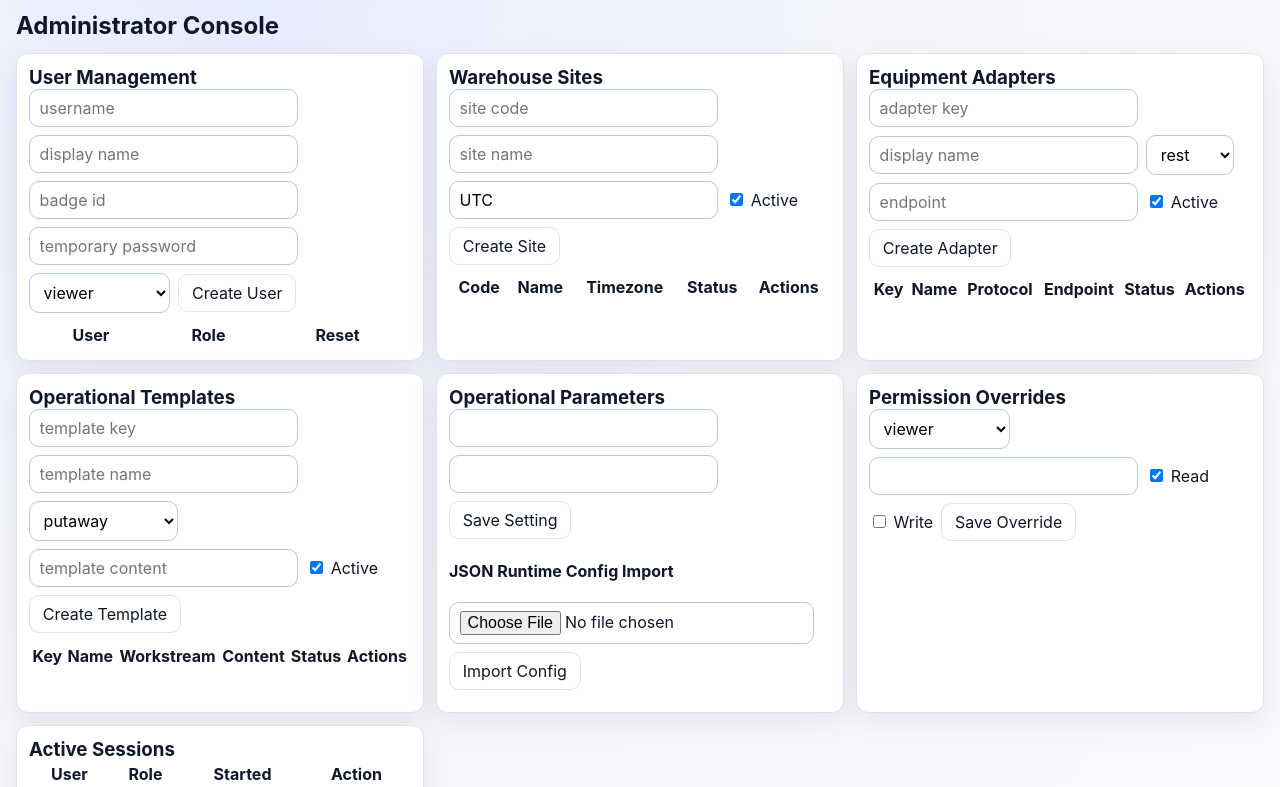
Test: AdminConsole › Save Operational Template persists template and renders it in the template list
Check: the heading "Operational Templates" is shown, box [29,386,235,409]
Type "tpl-putaway-default" into the field with placeholder "template key" at x=164, y=428, box [29,409,298,447]
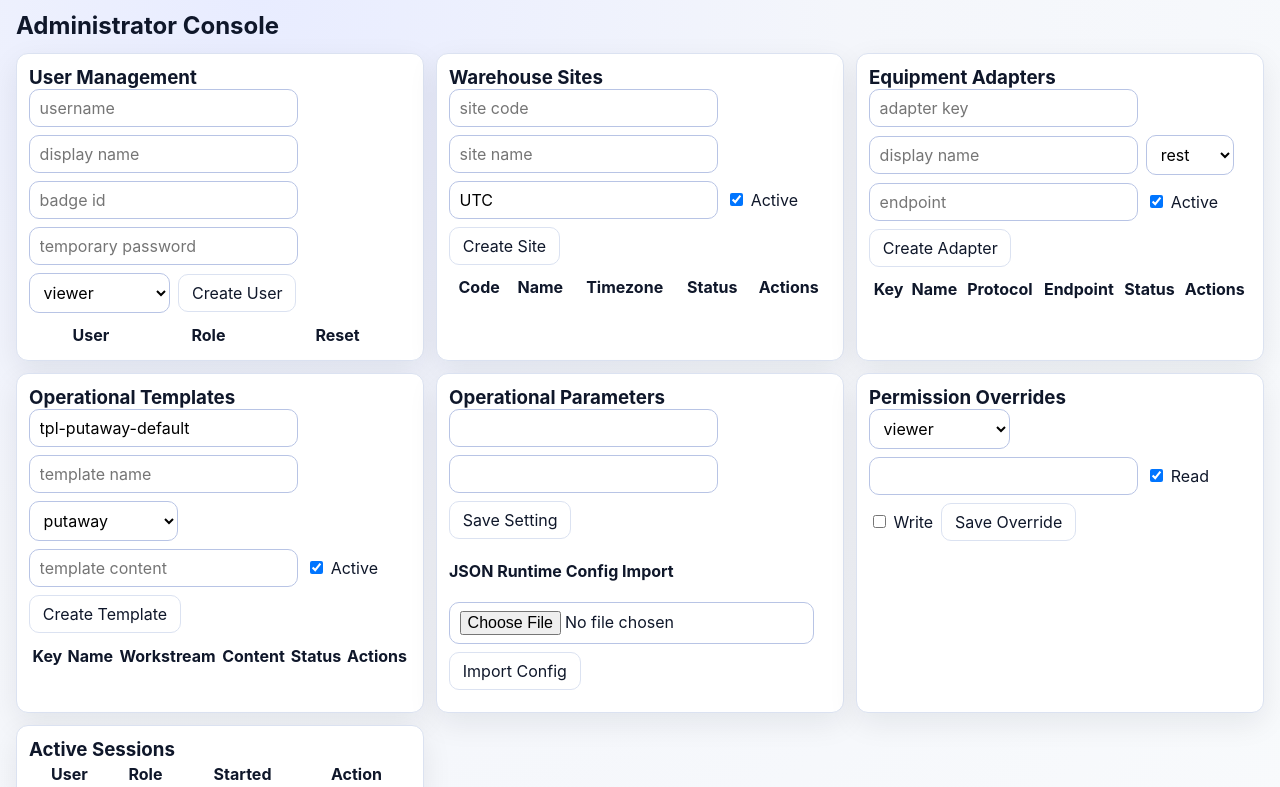
Type "Default Putaway" into the field with placeholder "template name" at x=164, y=474, box [29,455,298,493]
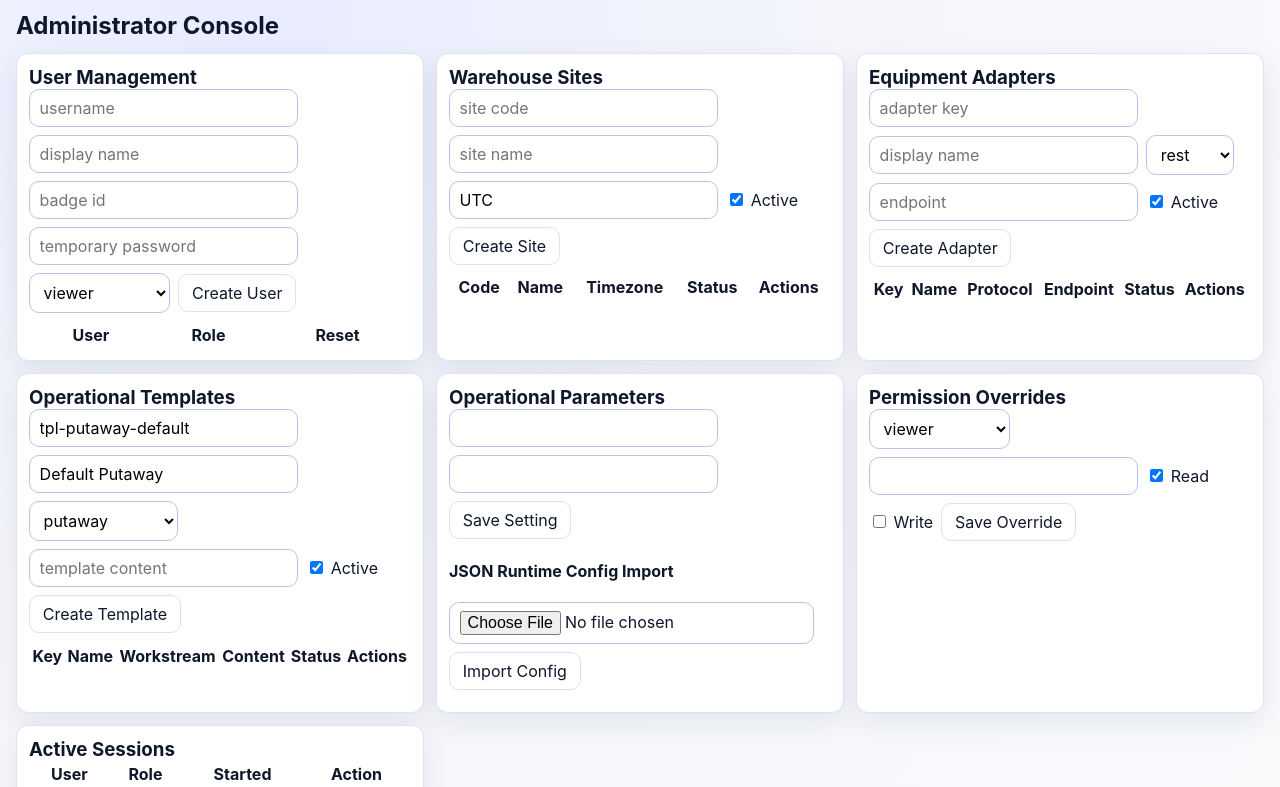
Type "1. Scan 2. Place" into the field with placeholder "template content" at x=164, y=568, box [29,549,298,587]
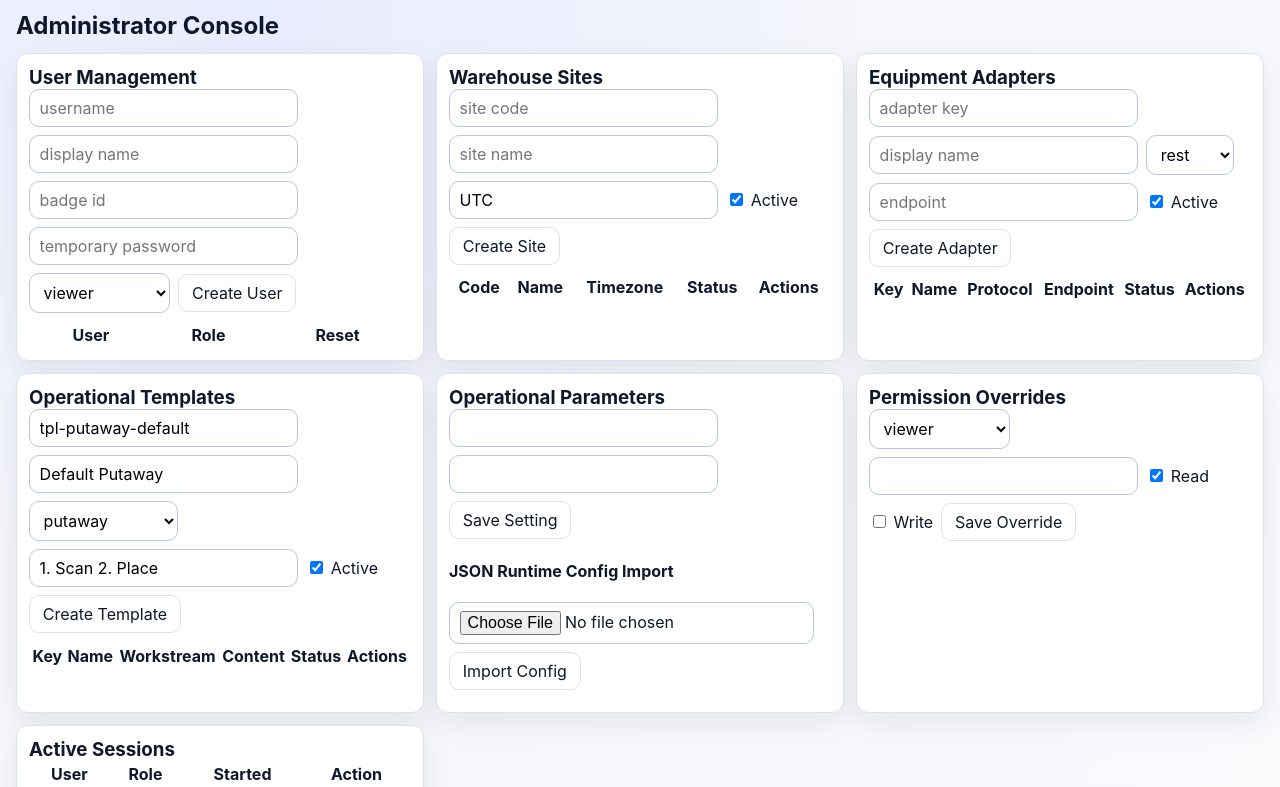
Click the button "Create Template" at x=105, y=614, box [29,595,181,633]
(page scrolled)
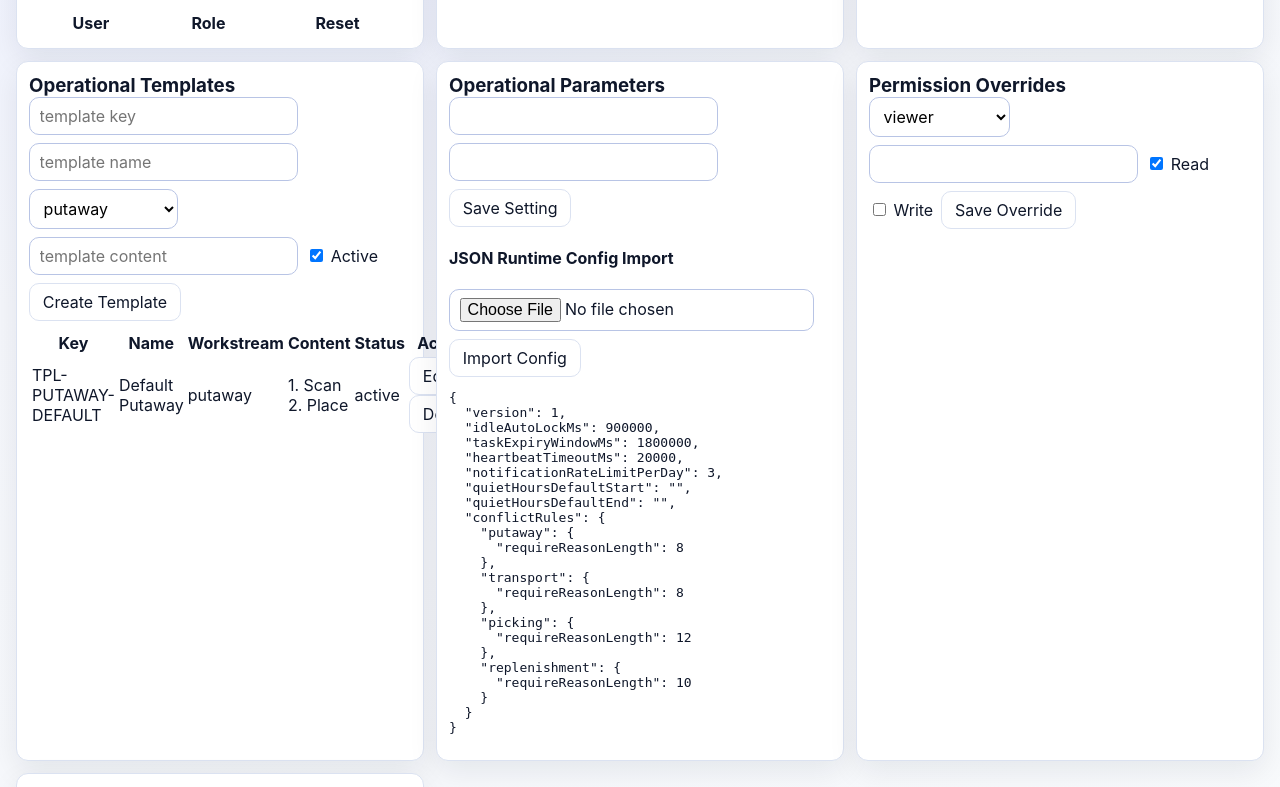
Check: the text "TPL-PUTAWAY-DEFAULT" is shown, box [31,356,116,434]
